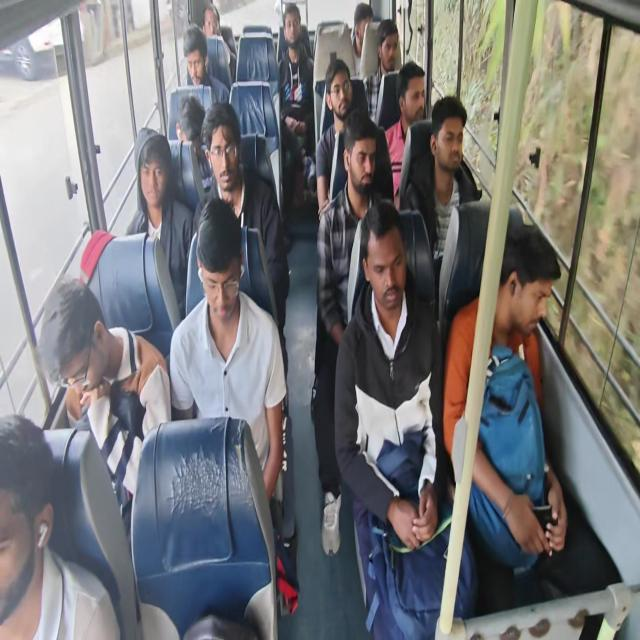person: (0, 429, 50, 612), (46, 289, 102, 411), (199, 230, 242, 328), (506, 259, 556, 334), (345, 121, 384, 207), (369, 246, 405, 318), (212, 122, 242, 190), (137, 152, 170, 212), (435, 106, 462, 178), (171, 111, 204, 161), (196, 3, 230, 46), (399, 74, 427, 123), (182, 44, 208, 88), (322, 80, 352, 116), (378, 28, 401, 70), (282, 14, 302, 56), (353, 15, 374, 53)
